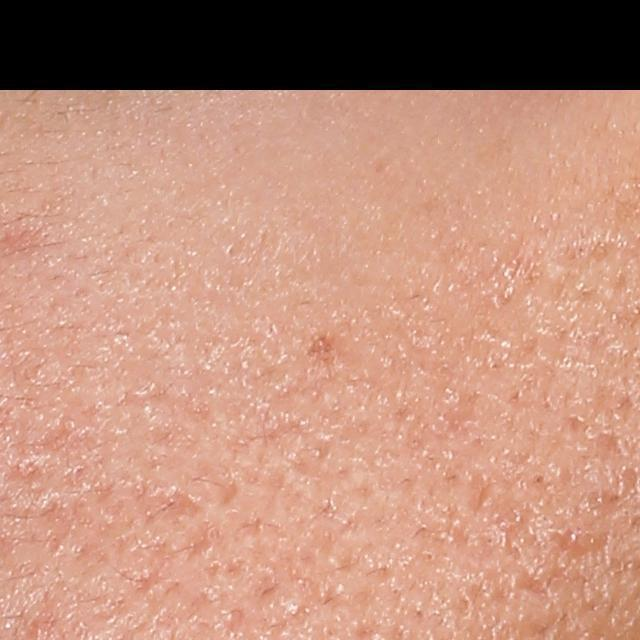atrophic_scar: (127, 479, 206, 541), (544, 522, 614, 564)
nevus: (299, 329, 339, 375)
